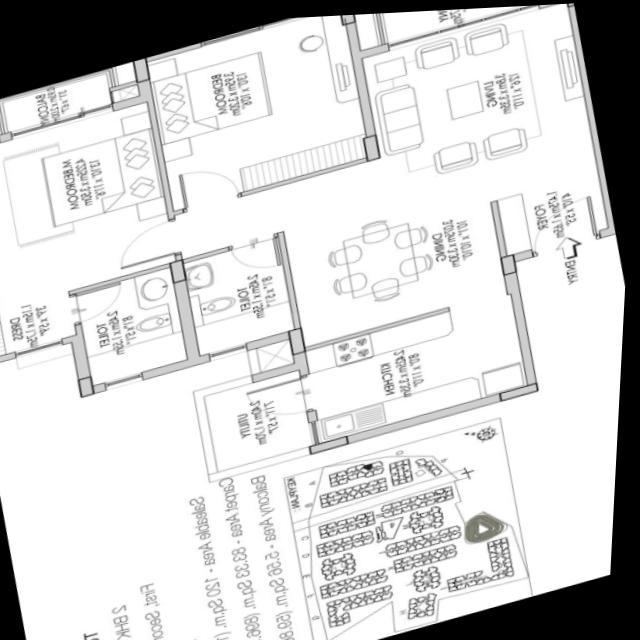Balcony-Sitout: (0, 60, 123, 131), (371, 5, 522, 44)
Bedroom: (136, 12, 385, 213)
Bedroom with Toilet: (0, 85, 200, 387)
Dining: (320, 202, 442, 314)
Dress: (0, 288, 88, 356)
Enterance-Foyer: (479, 99, 619, 264), (528, 184, 614, 292)
Kitchen: (295, 287, 545, 450)
Living: (351, 3, 593, 158)
Toilet: (66, 248, 210, 390), (179, 224, 310, 359)
Utility: (195, 354, 327, 479)
